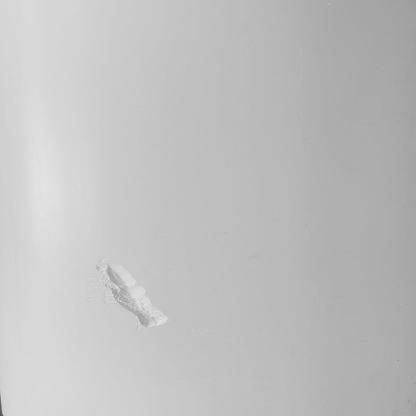sunshang: (97, 260, 169, 328)
